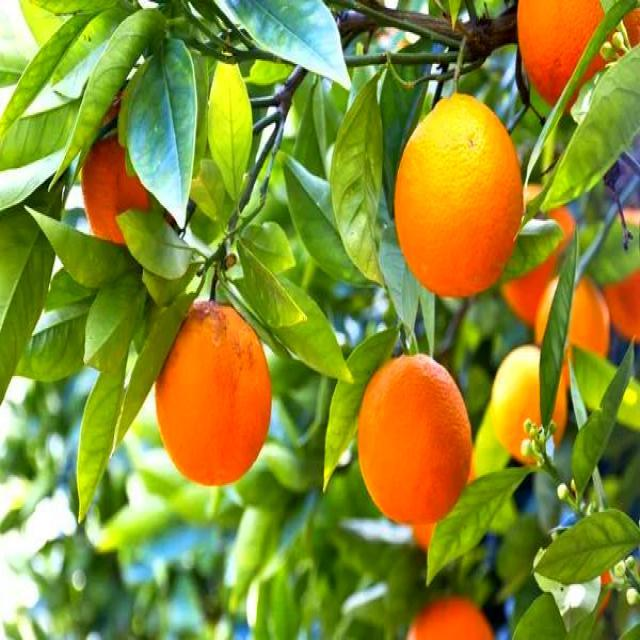Jeruk Sudah Matang: (393, 80, 531, 314), (147, 284, 286, 508), (346, 334, 484, 546), (512, 0, 636, 146), (482, 336, 578, 470), (536, 263, 616, 388)
